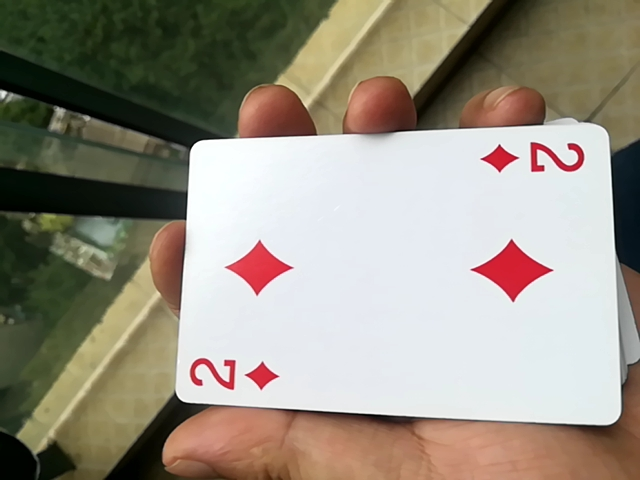fk 2: (166, 127, 618, 433)
